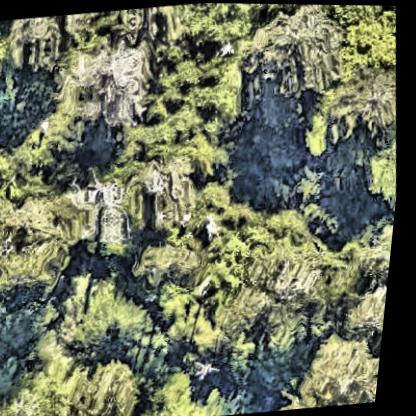tree-top: (235, 3, 353, 103), (56, 40, 159, 133), (0, 185, 81, 292), (290, 327, 390, 409), (235, 261, 327, 343), (73, 285, 160, 361), (326, 63, 403, 144), (126, 154, 206, 230), (61, 352, 152, 416), (68, 173, 139, 248), (18, 110, 98, 170), (165, 2, 245, 59), (159, 295, 229, 360), (0, 15, 65, 84), (133, 235, 214, 290), (336, 5, 401, 73), (149, 357, 216, 416), (352, 214, 399, 277), (345, 274, 394, 334), (361, 141, 405, 205), (189, 79, 246, 123), (295, 109, 338, 162), (27, 376, 79, 416), (196, 176, 236, 212), (0, 19, 14, 80), (0, 295, 13, 327)
